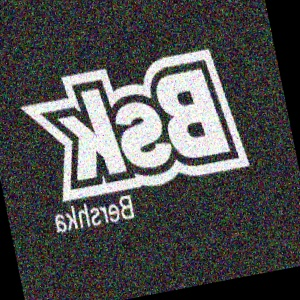bershka: (206, 0, 258, 82)
